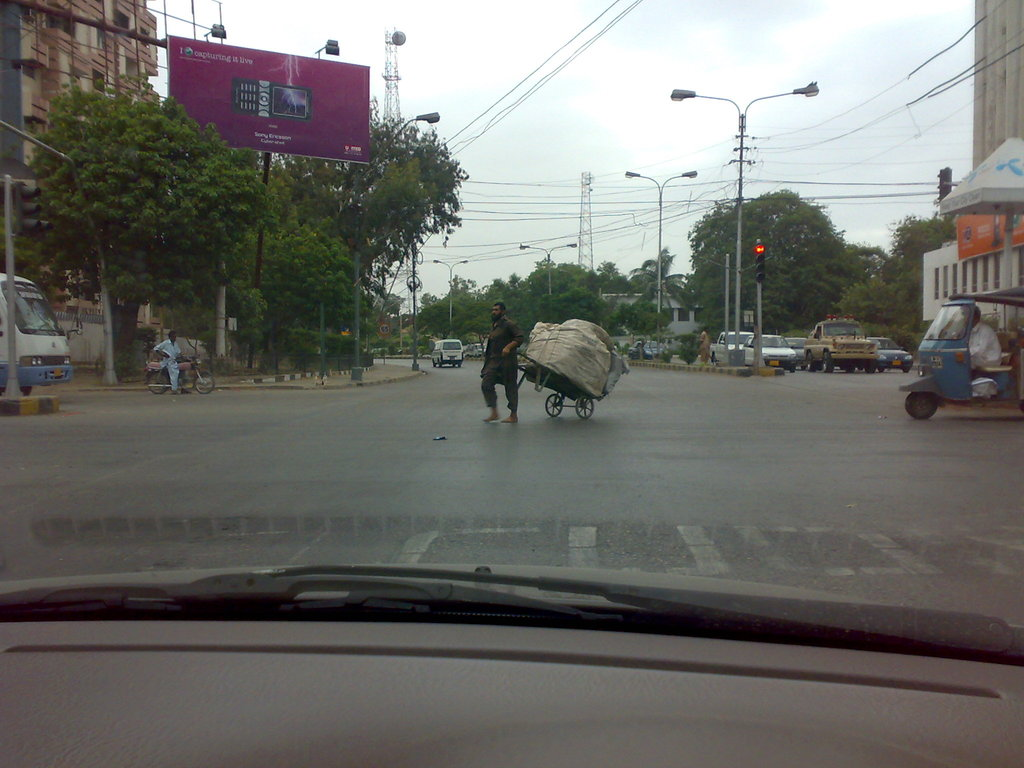Car: (748, 329, 798, 376), (866, 337, 913, 370), (431, 336, 467, 365), (714, 328, 754, 350), (632, 336, 675, 351)
